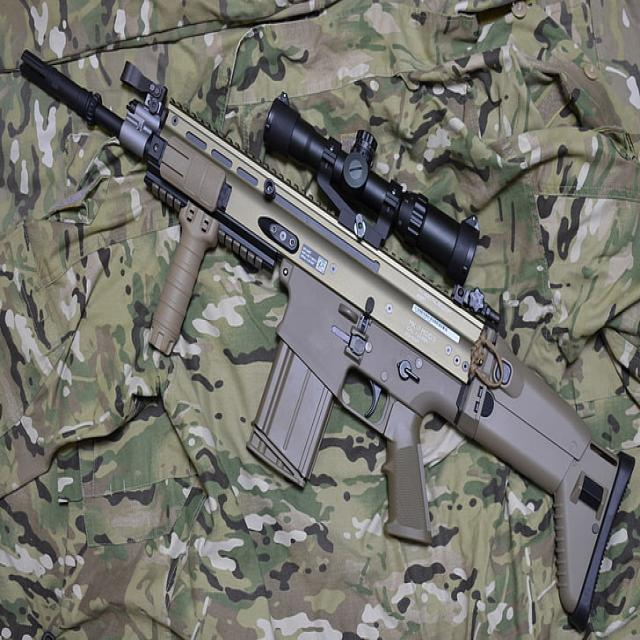Gun: (24, 33, 628, 640)
